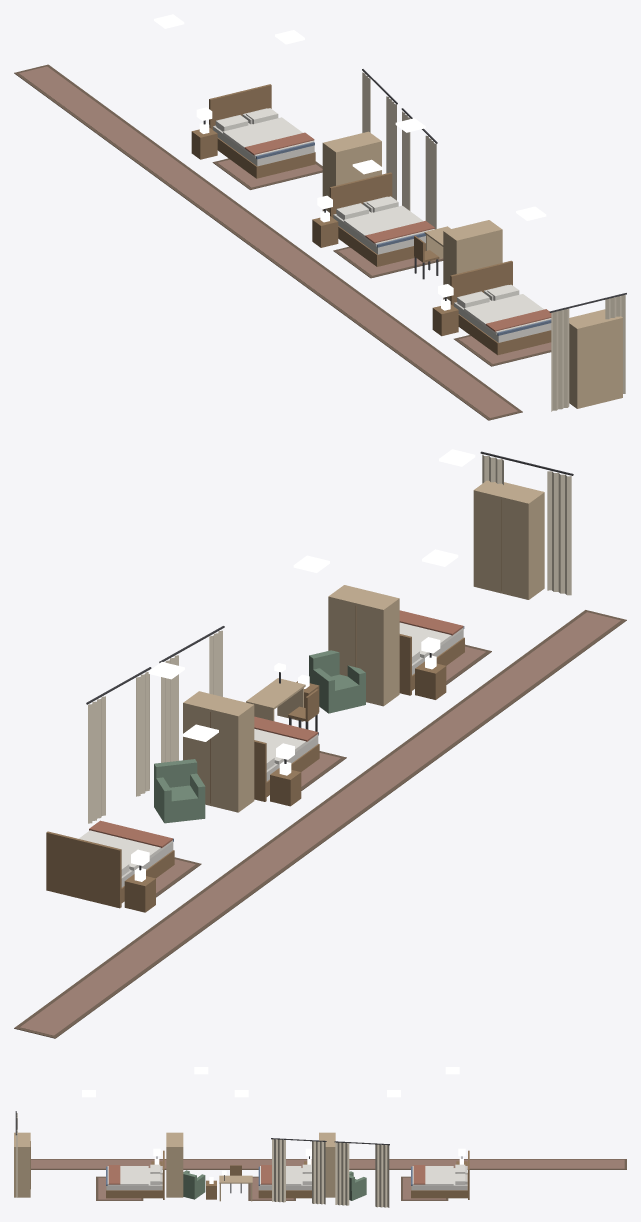
The model's file is fine-s2.glb.
3 renders of one model, top to bottom at view 1: azimuth 30°, elevation 25°; view 2: azimuth 150°, elevation 25°; view 3: azimuth 270°, elevation 25°, orthographic. The views are drawn at different scales.
Parts seen in each view (by area): view 1: soft-s2, dresser.005, bed-frame.003, bed-frame.005, bed-frame.004, dresser.004, dresser.003, nightstand.003, nightstand.004, nightstand.005; view 2: soft-s2, dresser.005, dresser.003, dresser.004, bed-frame.003, lounge-chair.002, lounge-chair.003, writing-desk.001, bed-frame.005, bed-frame.004, nightstand.004, nightstand.005 (+1 smaller); view 3: soft-s2, dresser.004, dresser.005, bed-frame.003, bed-frame.005, dresser.003, bed-frame.004, lounge-chair.003, lounge-chair.002, writing-desk.001, side-table.001.
Part boxes in pixels (left/top/right/bottom): soft-s2: left=14, top=64, right=626, bottom=420; dresser.005: left=569, top=309, right=622, bottom=408; bed-frame.003: left=209, top=84, right=315, bottom=178; bed-frame.005: left=450, top=260, right=551, bottom=355; bed-frame.004: left=329, top=172, right=425, bottom=266; dresser.004: left=443, top=220, right=502, bottom=300; dresser.003: left=322, top=131, right=381, bottom=212; nightstand.003: left=191, top=122, right=217, bottom=159; nightstand.004: left=312, top=210, right=338, bottom=247; nightstand.005: left=432, top=299, right=458, bottom=336; soft-s2: left=14, top=451, right=626, bottom=1038; dresser.005: left=473, top=480, right=544, bottom=599; dresser.003: left=183, top=691, right=254, bottom=812; dresser.004: left=328, top=585, right=399, bottom=706; bed-frame.003: left=46, top=831, right=174, bottom=908; lounge-chair.002: left=154, top=759, right=205, bottom=823; lounge-chair.003: left=309, top=650, right=365, bottom=713; writing-desk.001: left=246, top=663, right=305, bottom=721; bed-frame.005: left=399, top=626, right=464, bottom=695; bed-frame.004: left=254, top=732, right=319, bottom=801; nightstand.004: left=270, top=761, right=301, bottom=806; nightstand.005: left=415, top=655, right=446, bottom=699; soft-s2: left=15, top=1111, right=626, bottom=1207; dresser.004: left=166, top=1132, right=183, bottom=1197; dresser.005: left=14, top=1132, right=30, bottom=1197; bed-frame.003: left=411, top=1150, right=469, bottom=1199; bed-frame.005: left=106, top=1150, right=164, bottom=1199; dresser.003: left=319, top=1132, right=335, bottom=1197; bed-frame.004: left=258, top=1166, right=311, bottom=1198; lounge-chair.003: left=183, top=1170, right=205, bottom=1199; lounge-chair.002: left=349, top=1171, right=366, bottom=1200; writing-desk.001: left=219, top=1170, right=252, bottom=1201; side-table.001: left=206, top=1177, right=216, bottom=1199.
Bounding box in the file's own units: 4.23 × 3.74 × 21.95.
